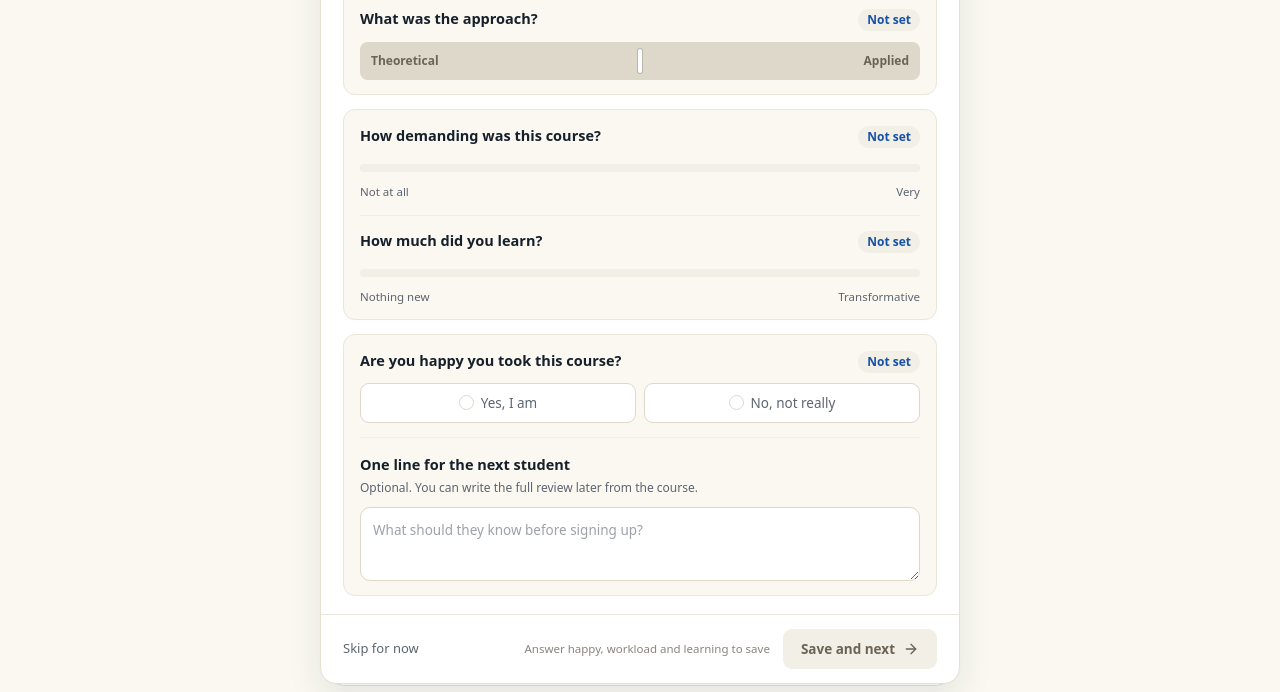
Test case: a save that does not land › keeps the card and its answers, and offers the save again
The width and height of the screenshot is (1280, 692).
(page scrolled)
Step 1. Click the button "Yes, I am" → (498, 403), box [360,383,636,423]
(page scrolled)
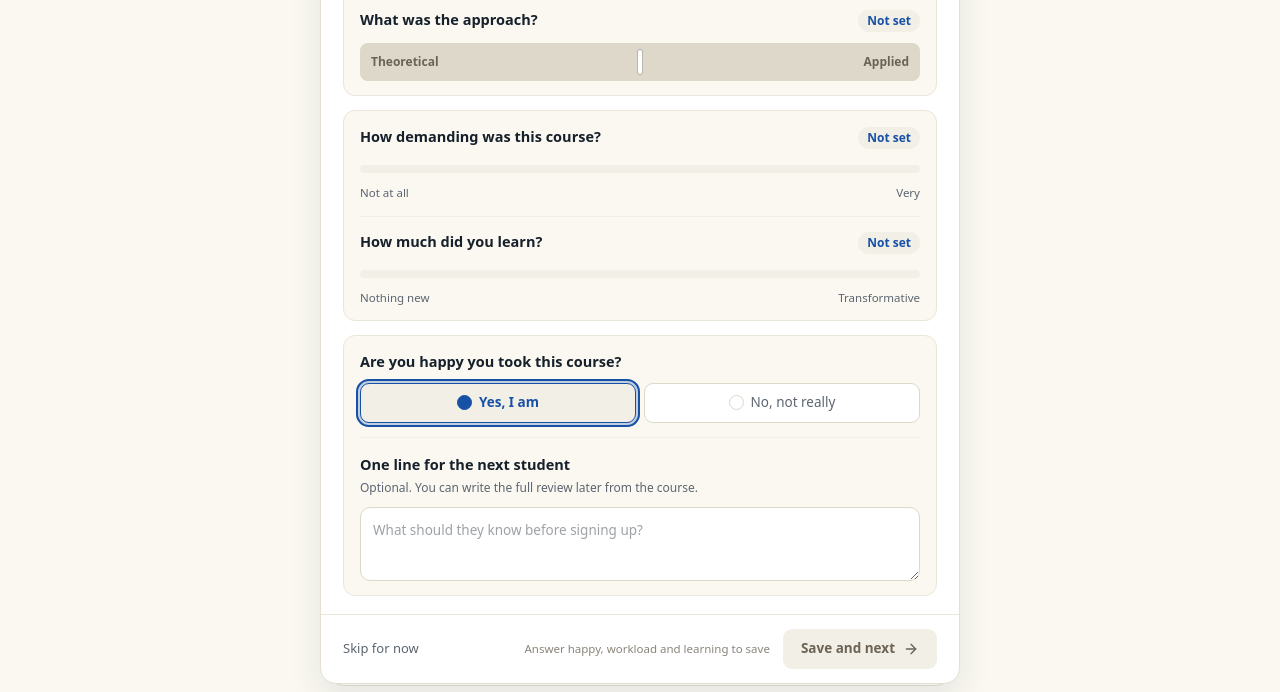
Step 2. Set the slider labelled "How demanding was this course?" to "8" → (640, 164), box [360,126,920,202]
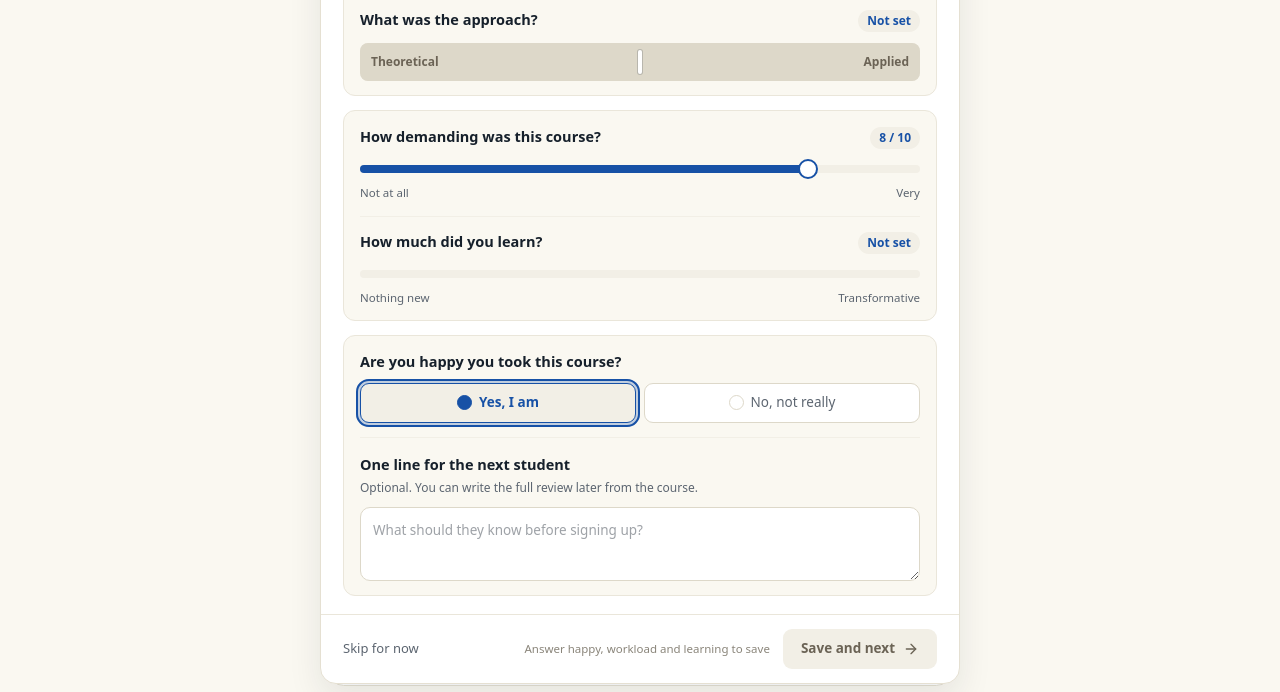
Step 3. Set the slider labelled "How much did you learn?" to "5" → (640, 268), box [360,230,920,306]
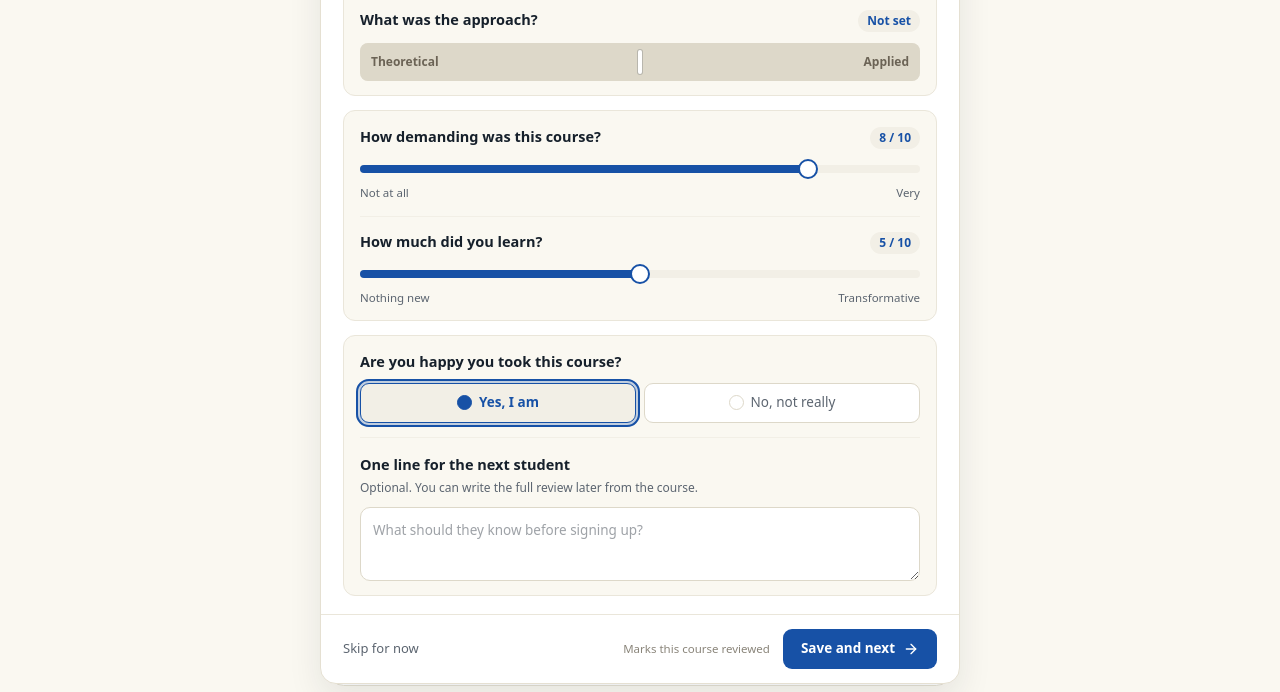
Step 4. Click the button "Save and next" → (860, 648), box [783,628,937,668]
(page scrolled)
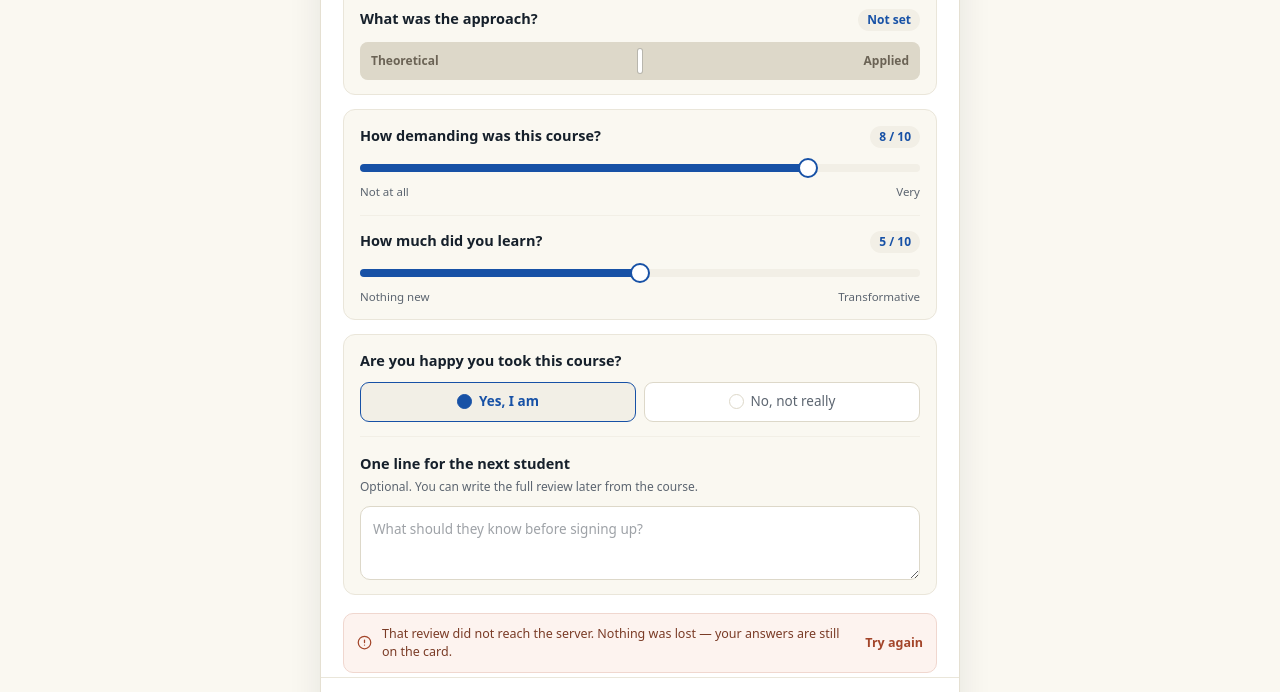
Now the text "8 / 10" is shown, box [870,126,920,148]
Now the text "That review did not reach the server. Nothing was lost — your answers are still on the card." is shown, box [382,624,839,660]
Step 5. Click the button "Try again" → (894, 643), box [865,634,923,652]
(page scrolled)
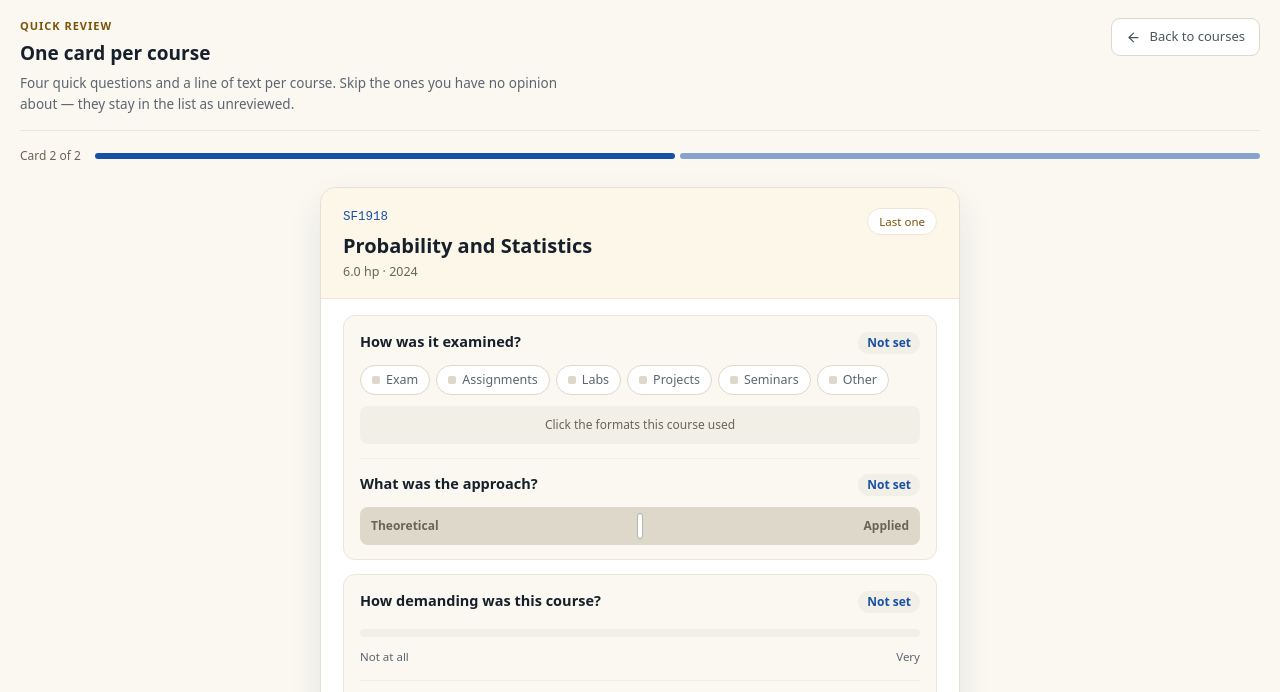
Now the text "Card 2 of 2" is shown, box [20,147,81,165]
